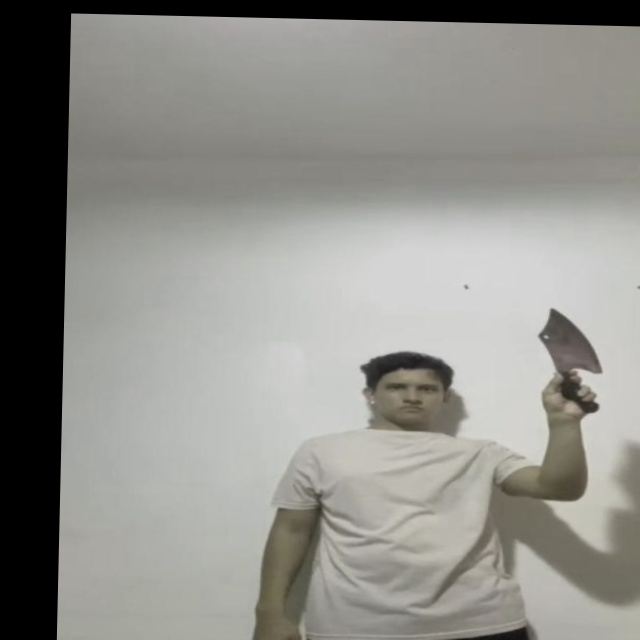Sharp-Object: (534, 309, 600, 373)
